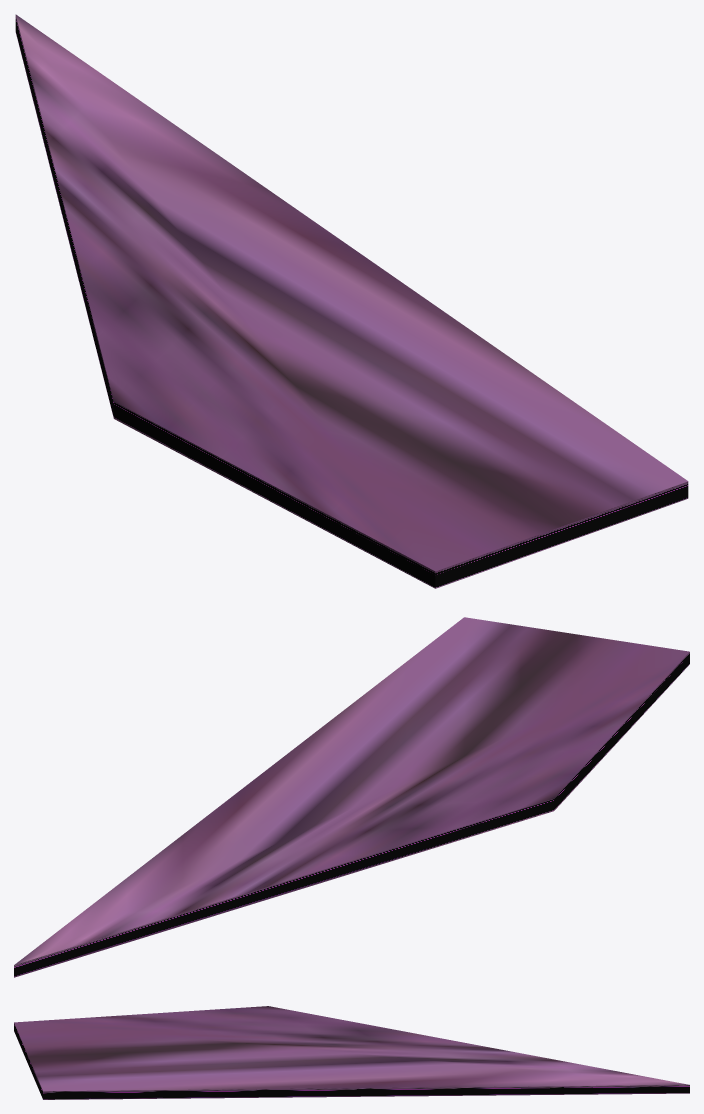
File: Piece2.glb
3 views of the same model, one above another, from view 1: azimuth 30°, elevation 25°; view 2: azimuth 150°, elevation 25°; view 3: azimuth 270°, elevation 25° (orthographic). The views are drawn at different scales.
Visible parts, largest first — view 1: Piece2; view 2: Piece2; view 3: Piece2.
Part boxes in pixels (bbox=[...]): Piece2: bbox=[15, 14, 688, 588]; Piece2: bbox=[14, 617, 689, 977]; Piece2: bbox=[14, 1006, 689, 1099].
Size of the model in its own units: 42.05 by 2 by 141.
Materials: 1 (1 with a texture image).
